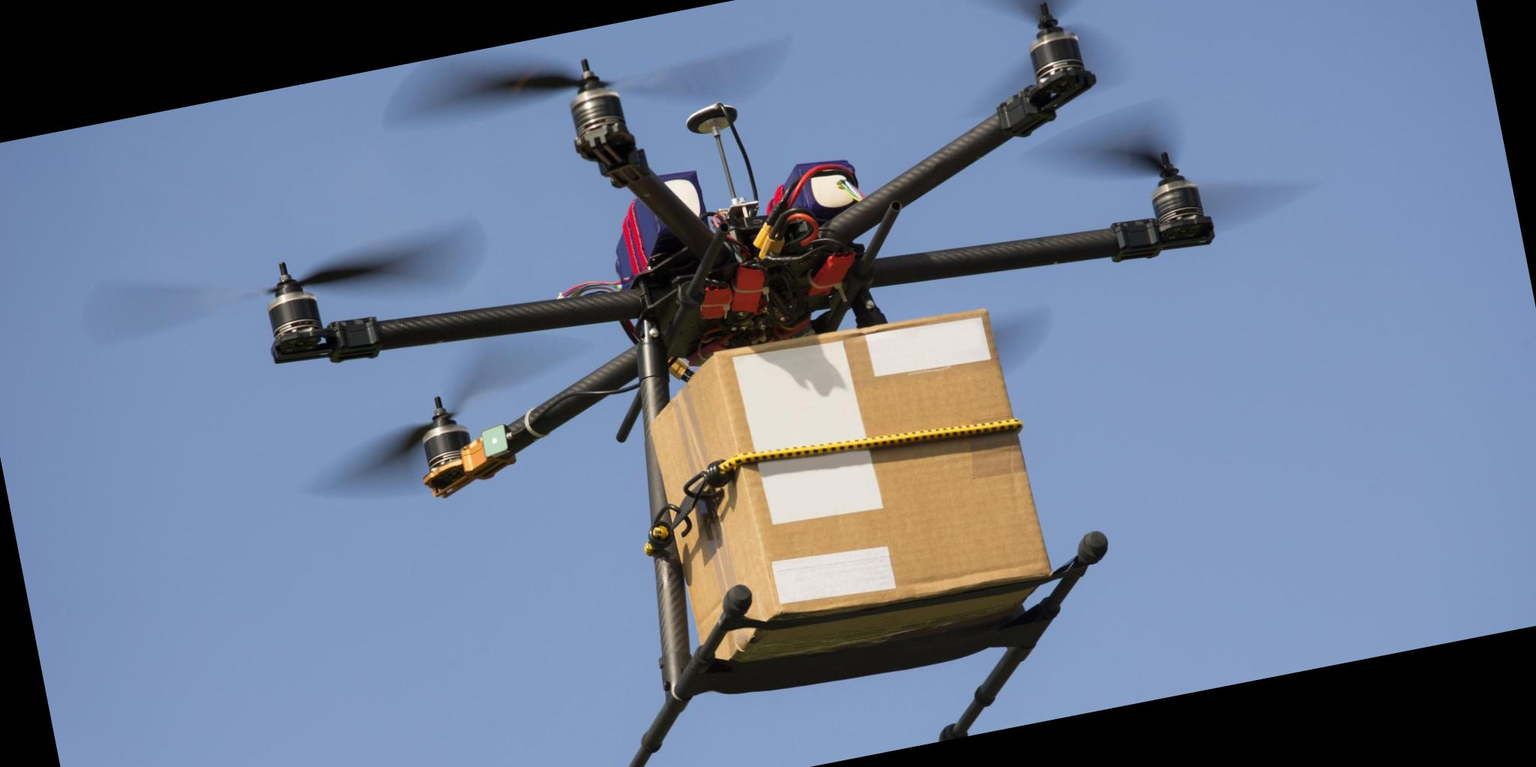drone: (156, 0, 1336, 598)
